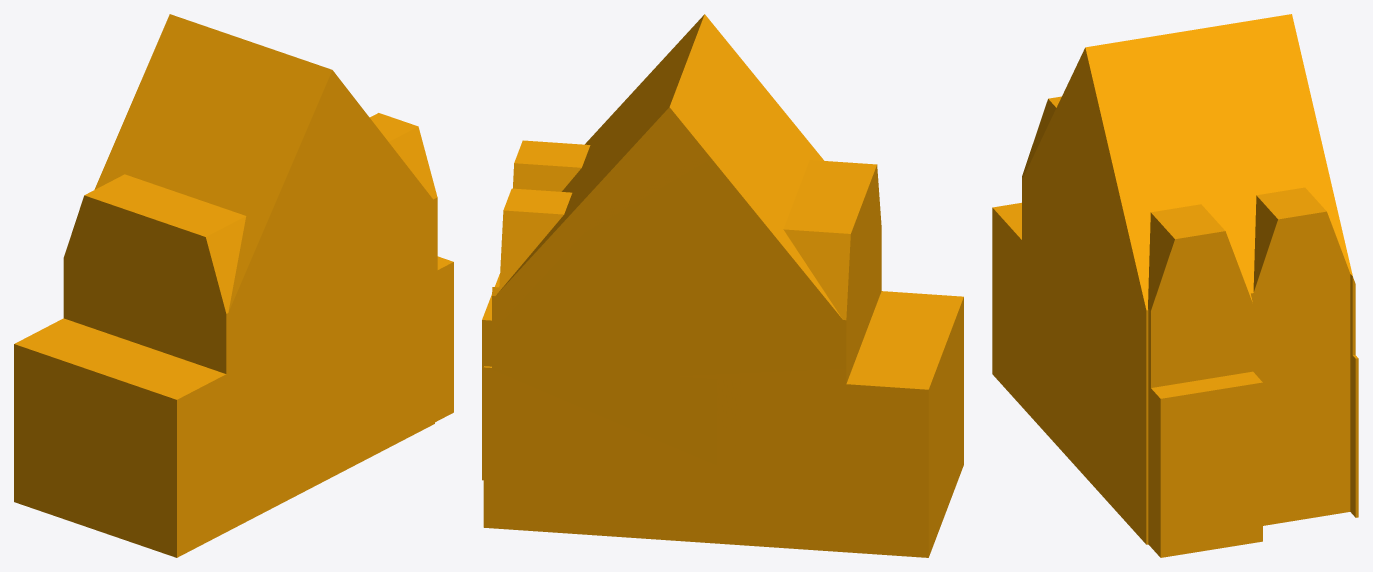
File: DEHB01ALk00017G2.gltf
3 views of the same model, side by side, from view 1: azimuth 30°, elevation 25°; view 2: azimuth 150°, elevation 25°; view 3: azimuth 270°, elevation 25° (orthographic). The views are drawn at different scales.
Visible parts, largest first — view 1: Z_UP; view 2: Z_UP; view 3: Z_UP.
Part boxes in pixels (<box>): Z_UP: <box>14,14,453,557</box>; Z_UP: <box>482,14,963,557</box>; Z_UP: <box>992,14,1358,557</box>.
Size of the model in its own units: 17.4 by 16.07 by 12.41.
